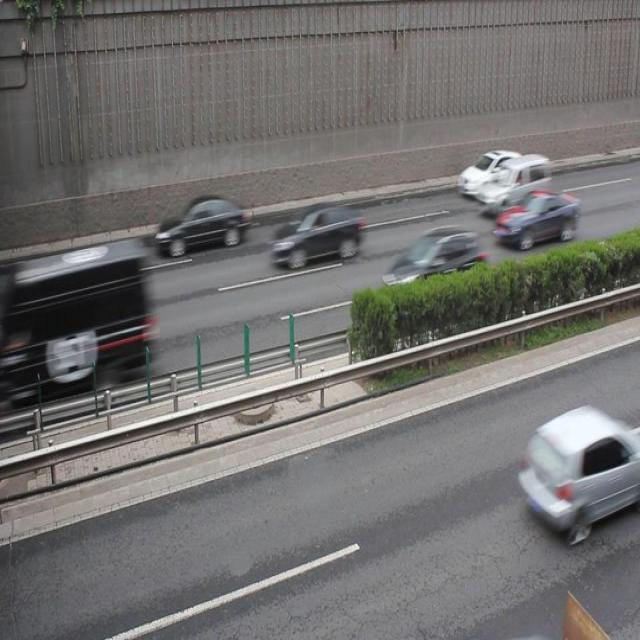car: (519, 405, 640, 538), (382, 227, 483, 305), (270, 201, 365, 271), (157, 195, 247, 258), (494, 188, 578, 246), (477, 153, 550, 213), (456, 147, 525, 197)
truck: (15, 240, 150, 405)
